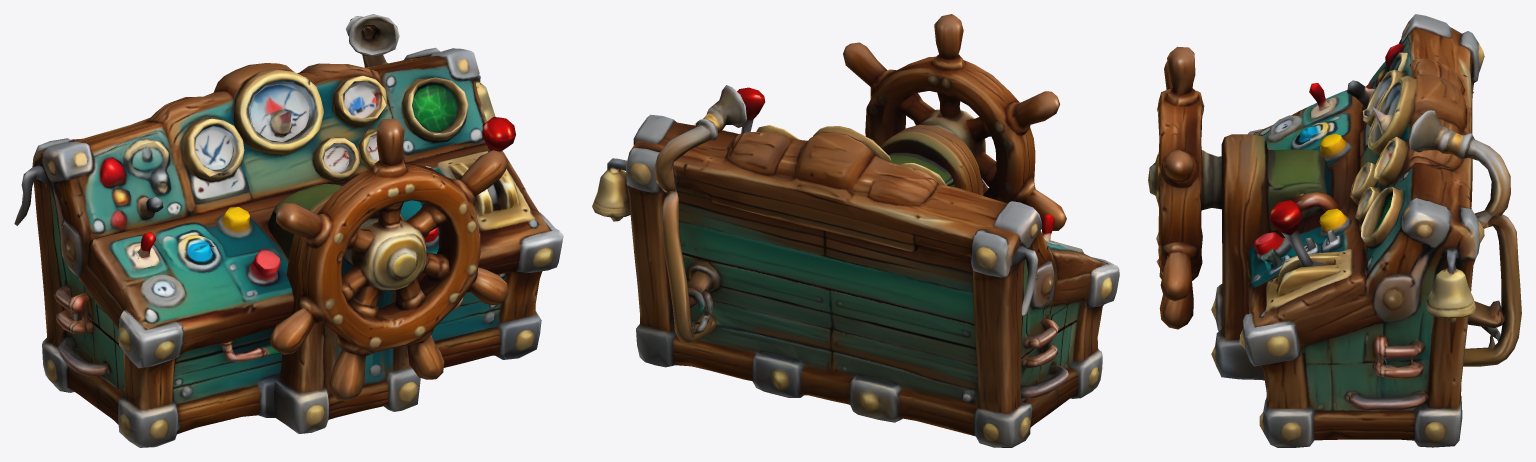
The model's file is steuerkonsole.glb.
3 renders of one model, left to right at view 1: azimuth 30°, elevation 25°; view 2: azimuth 150°, elevation 25°; view 3: azimuth 270°, elevation 25°, orthographic. The views are drawn at different scales.
Parts seen in each view (by area): view 1: world; view 2: world; view 3: world.
Part boxes in pixels (x1,y1,x2,y2): world: (14, 14, 563, 447); world: (592, 14, 1119, 447); world: (1148, 14, 1521, 447).
Size of the model in its own units: 1 by 0.6363 by 0.6982.
1 material, 1 textured.
